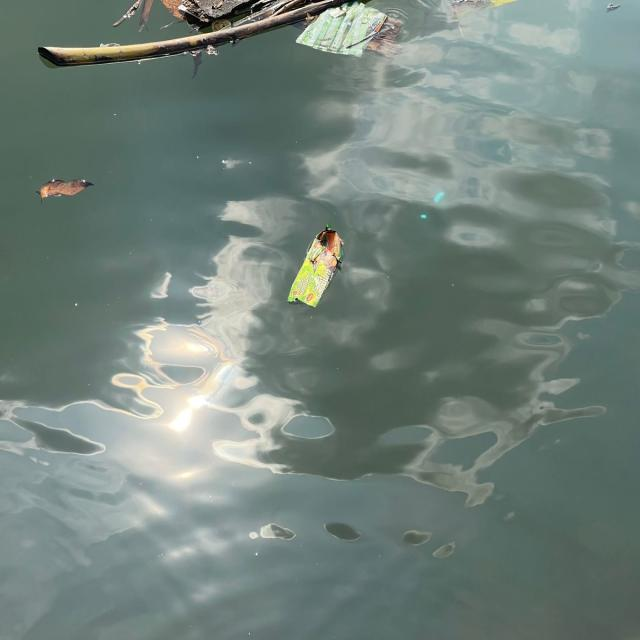Bungkus Makanan: (282, 216, 352, 319)
